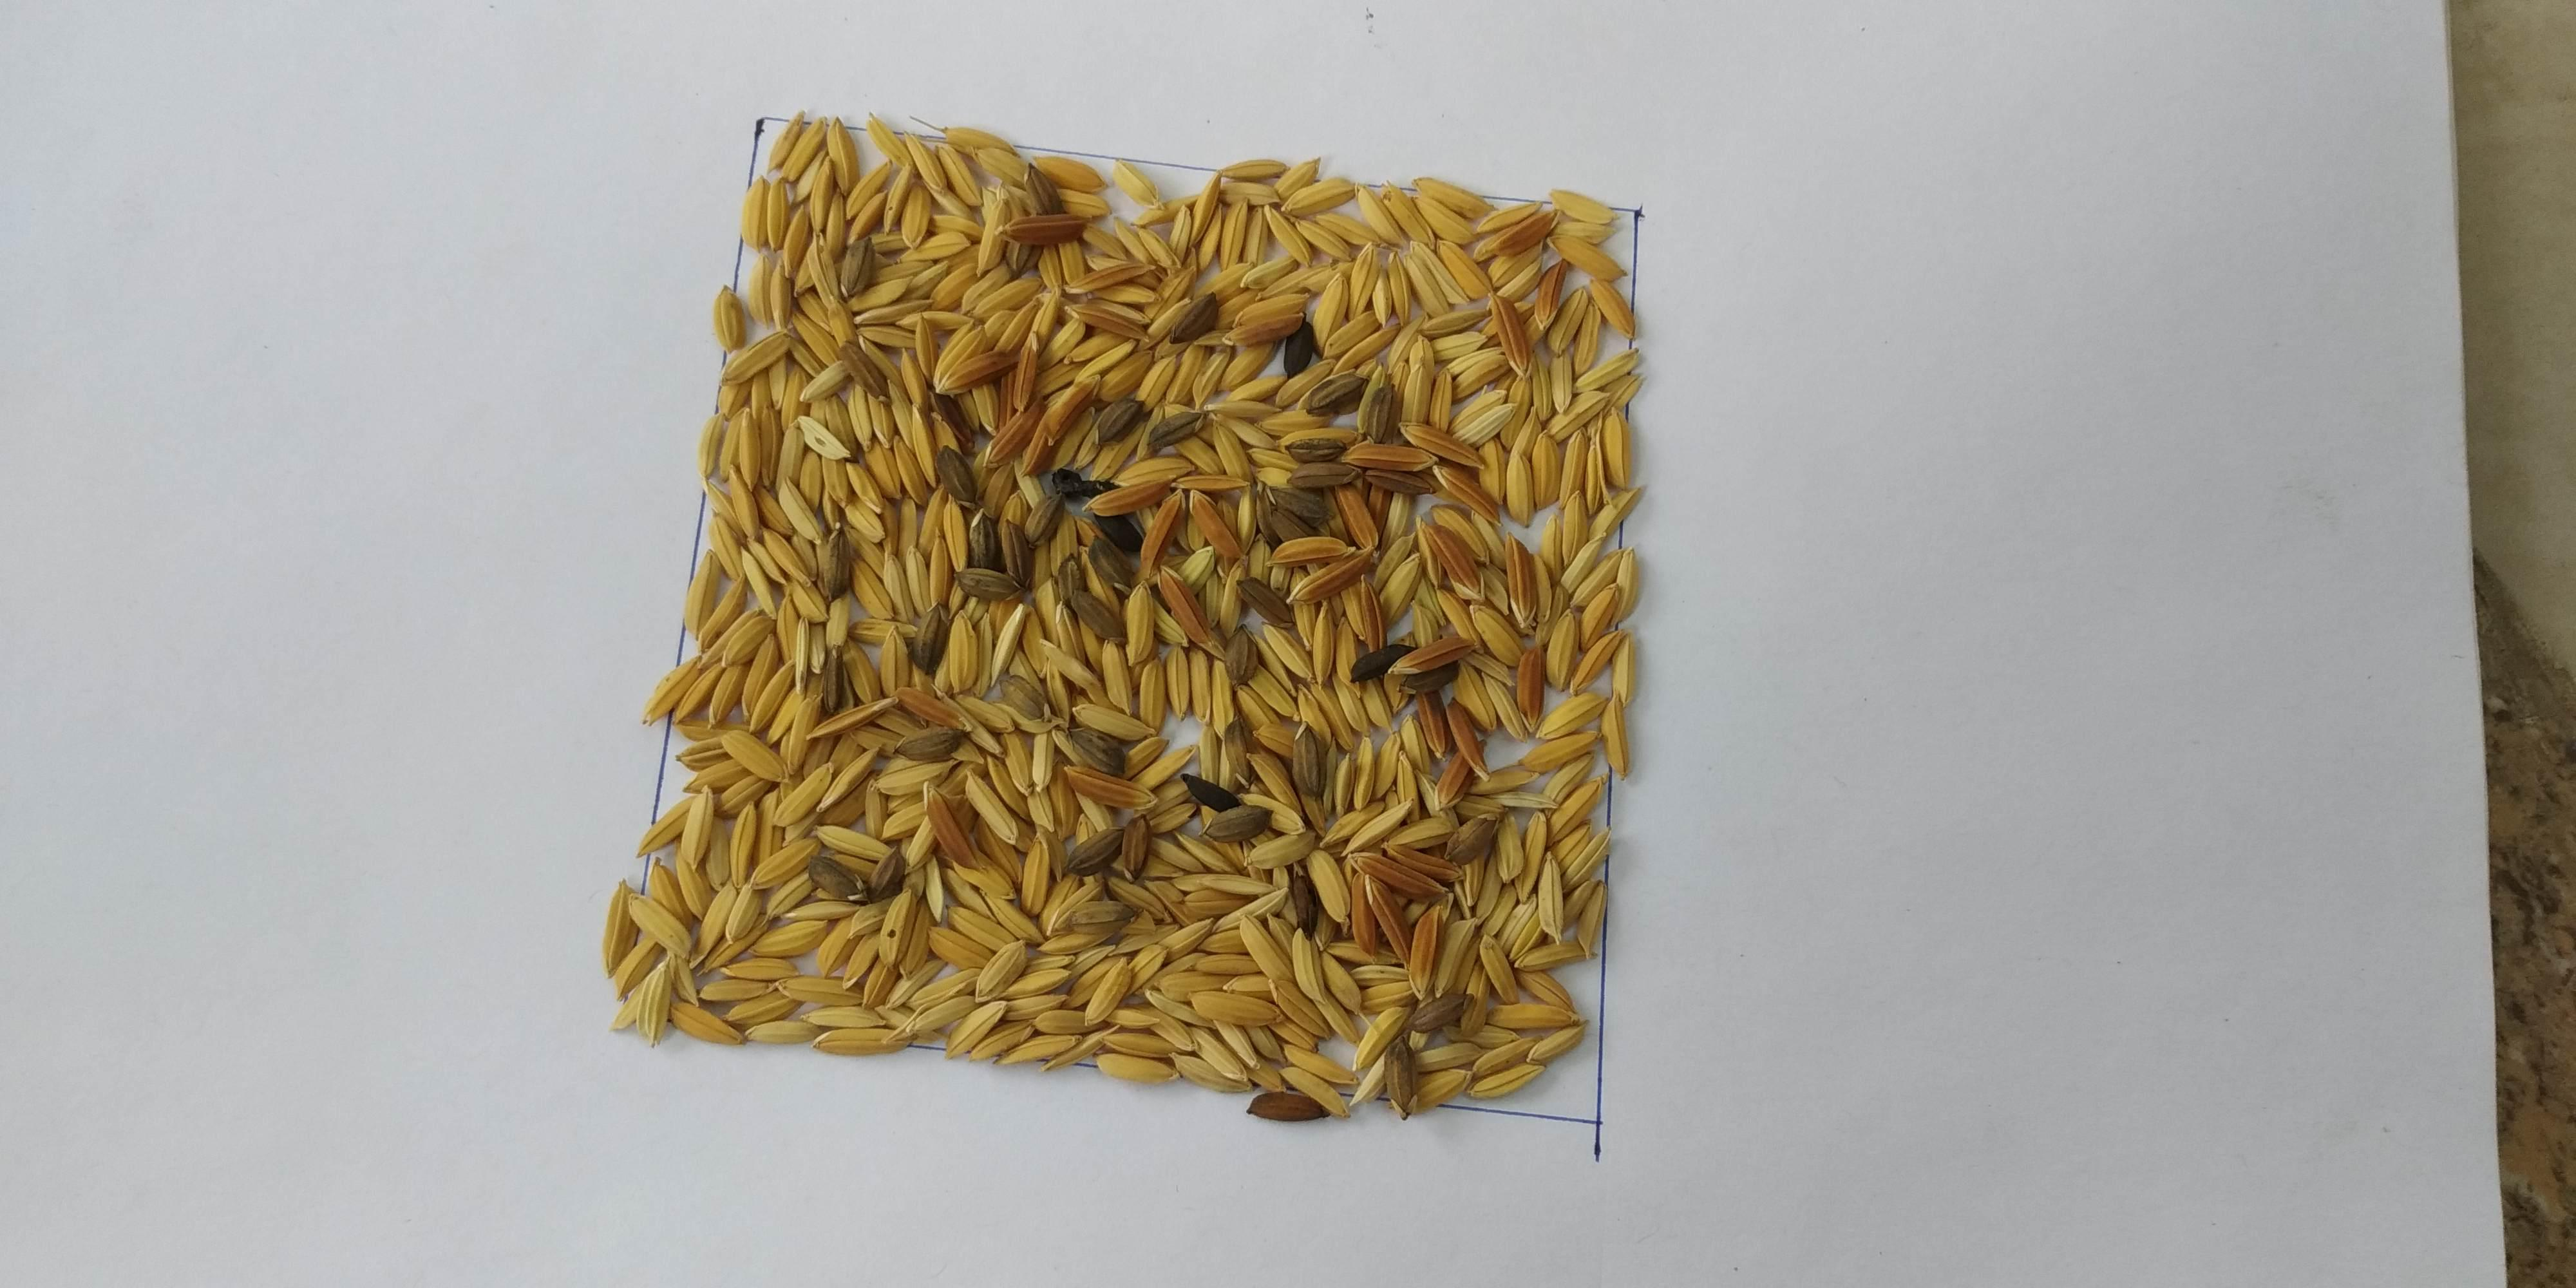impure: (756, 209, 1552, 1015)
